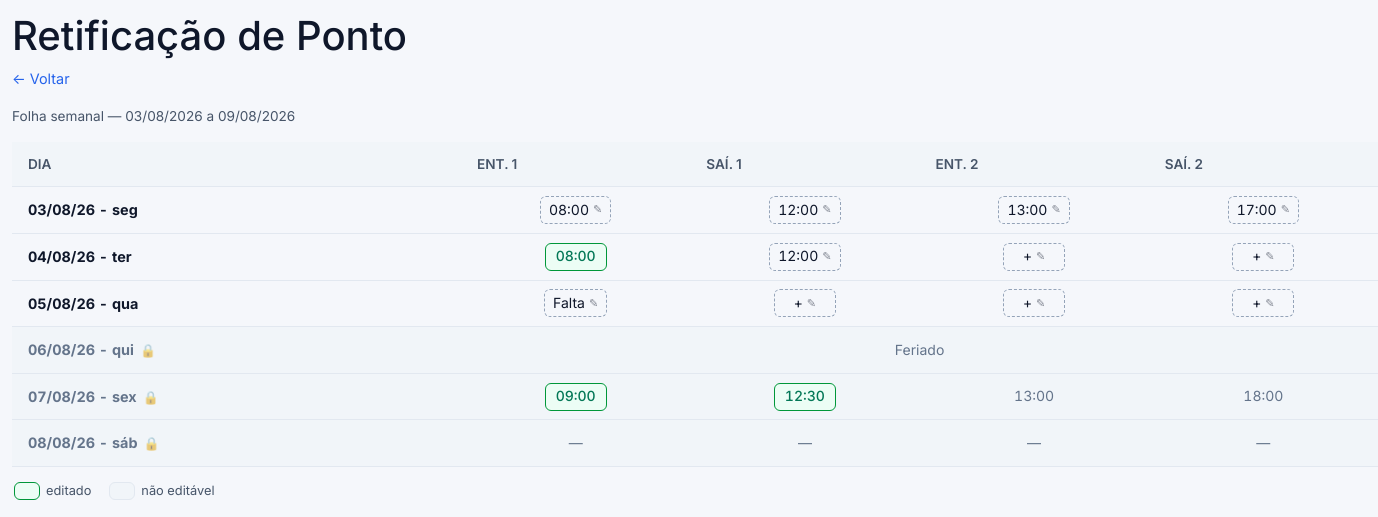
Test: PontoRetificarComponent › menu da célula › render: o clique na célula abre o menu ancorado, com as três saídas
Click the button with class "chip" showing "08:00 ✎". click: point(576, 210)
box: [540, 196, 611, 224]
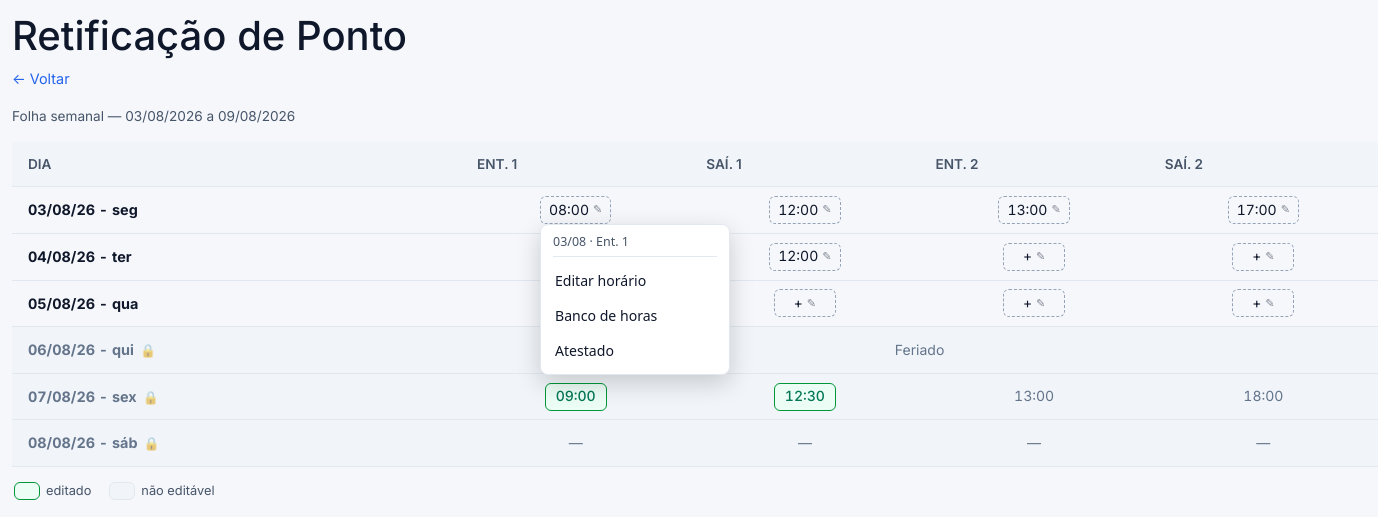
Now the element showing "03/08 · Ent. 1 Editar horário Banco de horas Atestado" is shown, box [540, 224, 730, 375]
Now the text "03/08 · Ent. 1" is shown, box [553, 233, 717, 257]
